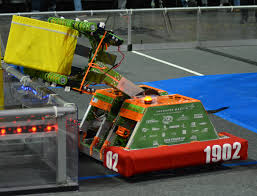cube: (3, 13, 79, 75)
